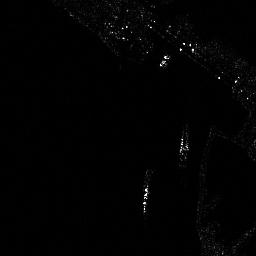ship: (177, 131, 191, 161)
